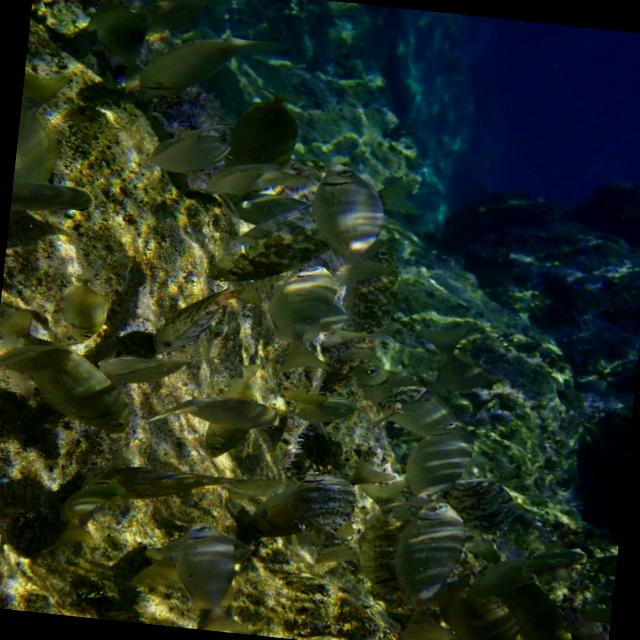Sokar Baligi: (294, 142, 420, 302), (375, 488, 479, 640), (156, 510, 278, 636)
